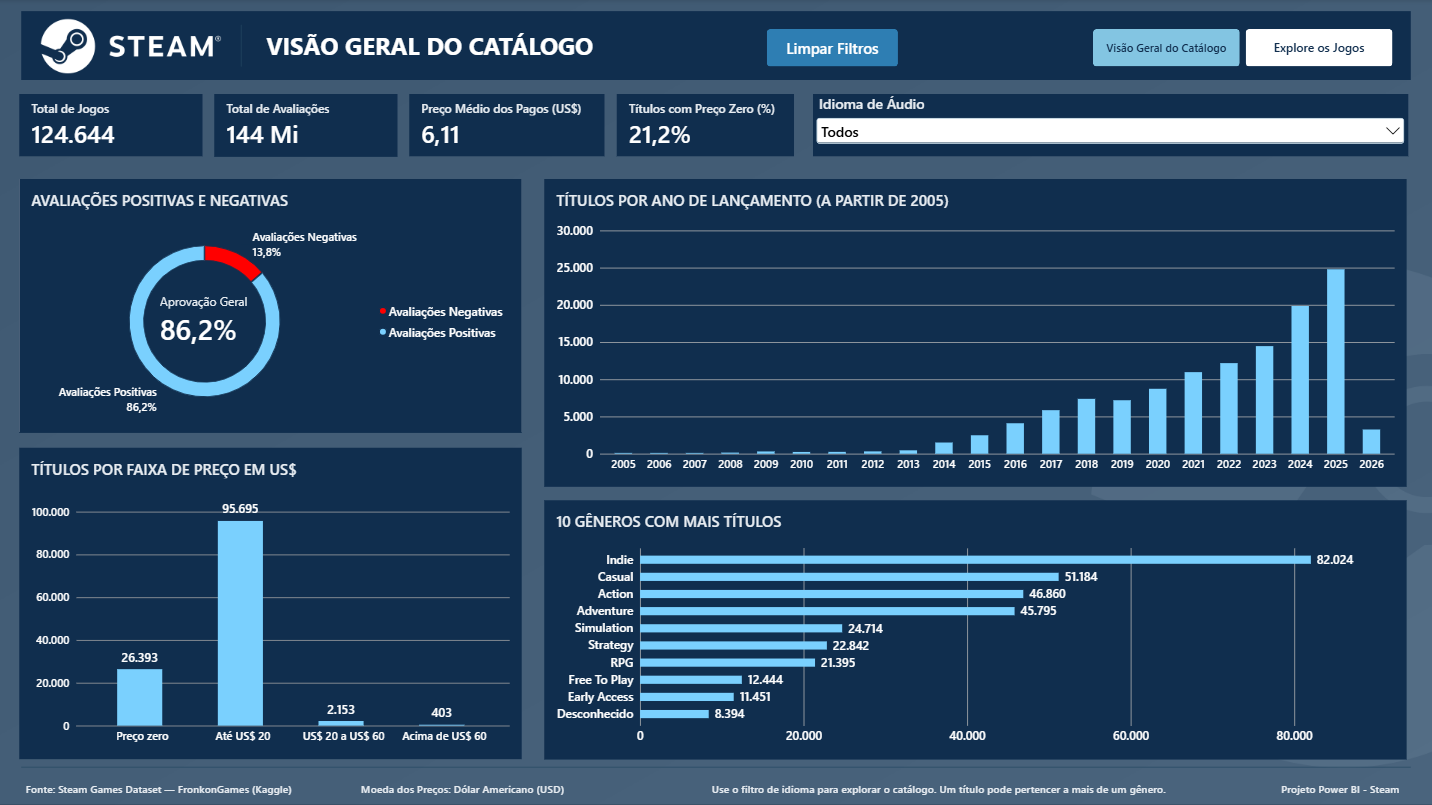

What the dashboard file says about the page in this screenshot:
{"tool":"powerbi","page":{"name":"Visão Geral do Catálogo","canvas":[1920,1080],"ordinal":0},"visuals":[{"type":"slicer","fields":{"Values":["DimIdioma.Idioma de Áudio"]},"box":[1088.7,126.9,794.8,83.5],"z":0},{"type":"donutChart","title":"AVALIAÇÕES POSITIVAS E NEGATIVAS","fields":{"Y":["steam_dataset_limpo.Avaliações Negativas","steam_dataset_limpo.Avaliações Positivas"]},"box":[28.4,240.4,671.2,339],"z":0,"group":"g1"},{"type":"cardVisual","title":"Preço zero","fields":{"Data":["steam_dataset_limpo.Total de Jogos"]},"box":[28.4,126.9,245,83],"z":1000},{"type":"cardVisual","title":"Total de Avaliações","fields":{"Data":["steam_dataset_limpo.Medida de Avaliações"]},"box":[288.5,127.7,245,83.6],"z":2000},{"type":"cardVisual","fields":{"Data":["steam_dataset_limpo.Preço Médio dos Jogos Pagos"]},"box":[549.4,126.9,260.5,83.5],"z":3000},{"type":"cardVisual","fields":{"Data":["steam_dataset_limpo.Percentual de Jogos com Preço Zero"]},"box":[826.5,126.9,237.1,83.5],"z":4000},{"type":"clusteredBarChart","title":"10 GÊNEROS COM MAIS TÍTULOS","fields":{"Category":["DimGenero.Gênero"],"Y":["steam_dataset_limpo.Total de Jogos"]},"box":[730.4,669.6,1152.2,346.4],"z":5000},{"type":"clusteredColumnChart","title":"TÍTULOS POR ANO DE LANÇAMENTO (A PARTIR DE 2005)","fields":{"Category":["DimCalendario.Ano"],"Y":["steam_dataset_limpo.Total de Jogos"]},"box":[730.4,240.6,1152.2,411.6],"z":6000},{"type":"clusteredColumnChart","title":"TÍTULOS POR FAIXA DE PREÇO EM US$","fields":{"Category":["steam_dataset_limpo.Faixa de Preço"],"Y":["steam_dataset_limpo.Total de Jogos"]},"box":[28.4,599.4,671.2,415.8],"z":7000},{"type":"textbox","box":[344,40.1,465.9,50.1],"z":8000},{"type":"pageNavigator","box":[1462.7,40.1,400,50],"z":9000},{"type":"group","id":"g1","title":"Grupo 1","box":[28.4,240.4,671.2,339],"z":9000,"group":"g2"},{"type":"actionButton","box":[1026.9,40.1,175.3,50.1],"z":10000},{"type":"textbox","box":[28.3,1045,736.7,23.3],"z":11000},{"type":"textbox","box":[1705,1045,176.7,23.3],"z":12000},{"type":"group","id":"g2","title":"Grupo 2","box":[28.4,240.4,671.2,339],"z":13000},{"type":"cardVisual","fields":{"Data":["steam_dataset_limpo.Aprovação Geral"]},"box":[200.2,367.7,196.7,124.4],"z":14000,"group":"g2"},{"type":"textbox","box":[945,1045,623.3,23.3],"z":14000}]}

Visuals, with their boxes in screenshot pixels (x1, y1, x2, y2), scaled from the page's 1920x1080 canvas onto the 1432x805 screenshot:
slicer - DimIdioma.Idioma de Áudio: left=812, top=95, right=1405, bottom=157
"AVALIAÇÕES POSITIVAS E NEGATIVAS" donutChart: left=21, top=179, right=522, bottom=432
"Preço zero" cardVisual: left=21, top=95, right=204, bottom=156
"Total de Avaliações" cardVisual: left=215, top=95, right=398, bottom=157
cardVisual - steam_dataset_limpo.Preço Médio dos Jogos Pagos: left=410, top=95, right=604, bottom=157
cardVisual - steam_dataset_limpo.Percentual de Jogos com Preço Zero: left=616, top=95, right=793, bottom=157
"10 GÊNEROS COM MAIS TÍTULOS" clusteredBarChart: left=545, top=499, right=1404, bottom=757
"TÍTULOS POR ANO DE LANÇAMENTO (A PARTIR DE 2005)" clusteredColumnChart: left=545, top=179, right=1404, bottom=486
"TÍTULOS POR FAIXA DE PREÇO EM US$" clusteredColumnChart: left=21, top=447, right=522, bottom=757
textbox: left=257, top=30, right=604, bottom=67
pageNavigator: left=1091, top=30, right=1389, bottom=67
"Grupo 1" group: left=21, top=179, right=522, bottom=432
actionButton: left=766, top=30, right=897, bottom=67
textbox: left=21, top=779, right=571, bottom=796
textbox: left=1272, top=779, right=1403, bottom=796
"Grupo 2" group: left=21, top=179, right=522, bottom=432
cardVisual - steam_dataset_limpo.Aprovação Geral: left=149, top=274, right=296, bottom=367
textbox: left=705, top=779, right=1170, bottom=796
